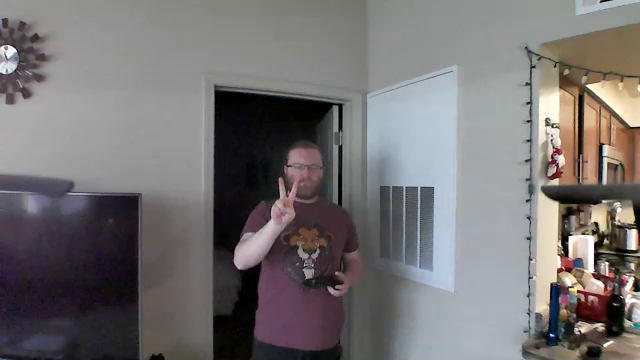peace: (260, 170, 306, 223)
